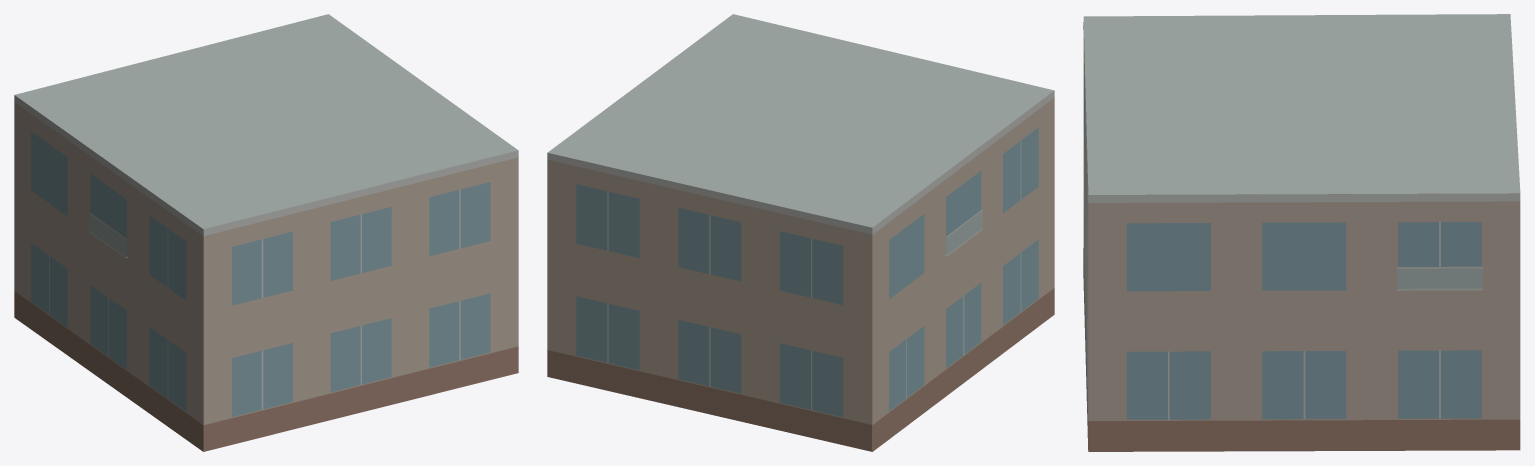
File: survey-upis-32505448.glb
The picture shows the model from 3 angles, left to right: view 1: azimuth 30°, elevation 25°; view 2: azimuth 150°, elevation 25°; view 3: azimuth 270°, elevation 25°; orthographic projection. The views are drawn at different scales.
Visible parts, largest first — view 1: survey-upis-32505448.tmp; view 2: survey-upis-32505448.tmp; view 3: survey-upis-32505448.tmp.
Part boxes in pixels (<box>): survey-upis-32505448.tmp: <box>14,14,518,451</box>; survey-upis-32505448.tmp: <box>547,14,1054,451</box>; survey-upis-32505448.tmp: <box>1083,14,1520,451</box>.
Size of the model in its own units: 11.87 by 7.85 by 12.11.
